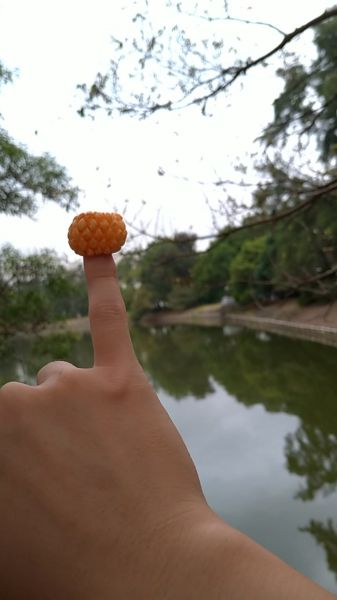eggs: (68, 213, 126, 256)
